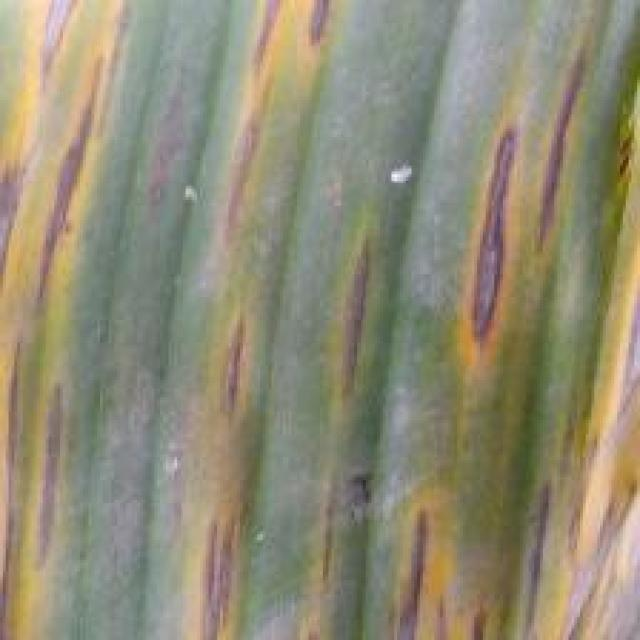Early_leaf_spot: (0, 0, 143, 640), (514, 17, 640, 640), (393, 61, 640, 359), (209, 0, 339, 277), (283, 199, 362, 636), (377, 467, 520, 638), (157, 465, 252, 640), (187, 292, 275, 456)
